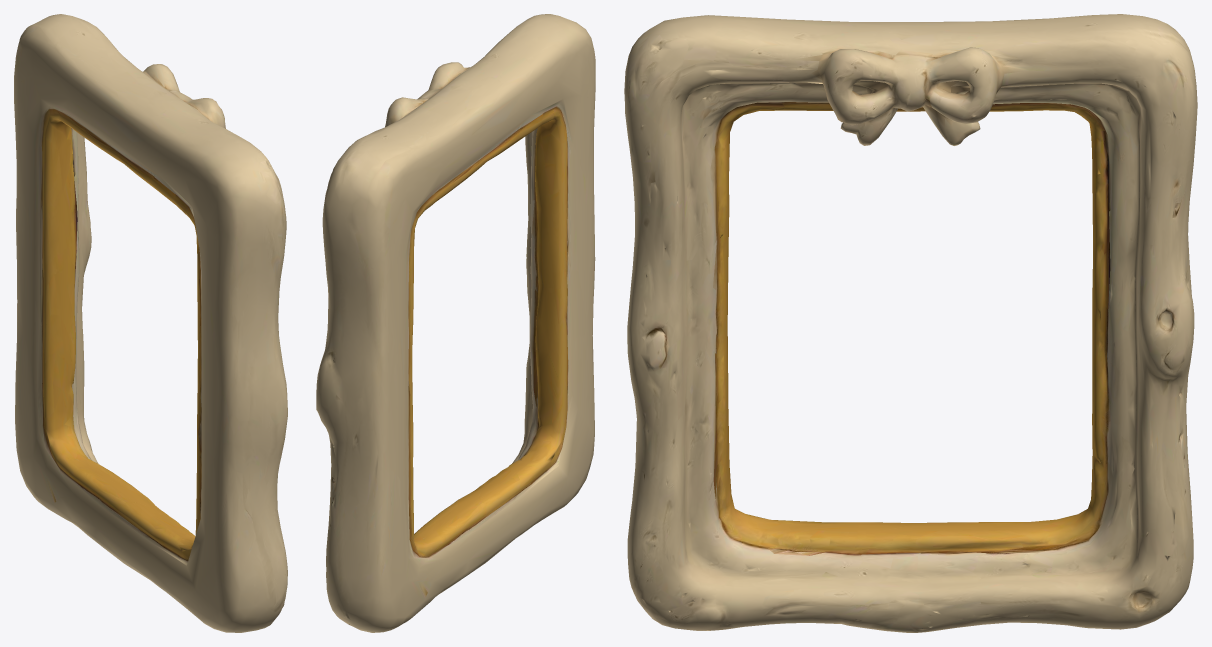
The model's file is room-wall-frame-large.glb.
The picture shows the model from 3 angles, left to right: view 1: azimuth 30°, elevation 25°; view 2: azimuth 150°, elevation 25°; view 3: azimuth 270°, elevation 25°; orthographic projection. The views are drawn at different scales.
Parts seen in each view (by area): view 1: tripo_node_6242a23c-6e83-4f8c-a17a-be27ef1cf296; view 2: tripo_node_6242a23c-6e83-4f8c-a17a-be27ef1cf296; view 3: tripo_node_6242a23c-6e83-4f8c-a17a-be27ef1cf296.
Boxes of the visible parts, x1,y1,x2,y2 form: tripo_node_6242a23c-6e83-4f8c-a17a-be27ef1cf296: [14, 14, 287, 632]; tripo_node_6242a23c-6e83-4f8c-a17a-be27ef1cf296: [316, 14, 595, 632]; tripo_node_6242a23c-6e83-4f8c-a17a-be27ef1cf296: [624, 14, 1197, 632].
Size of the model in its own units: 0.1665 by 0.9734 by 0.8395.
1 material, 1 textured.
